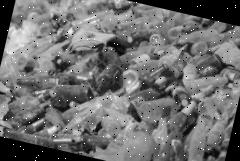glass: (0, 3, 240, 161)
